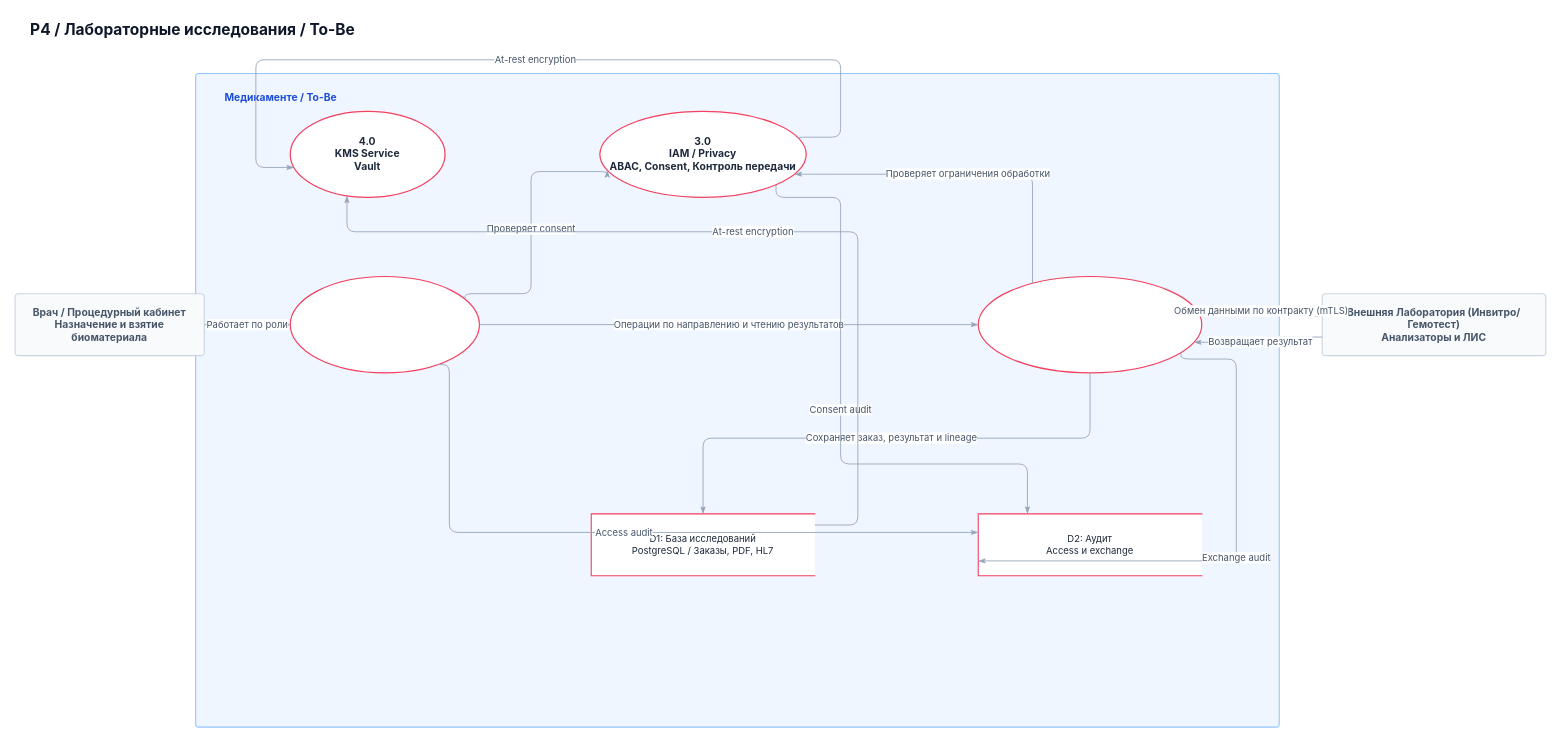
The diagram is 1562 pixels wide and 742 high, and some of its shapes have lost their labels. The shapes that lost their labels are listed below. From the top down, each one's centre as x and y in pixels, then its label:
At [384,324]: "1.0 Медицинские АРМ / API Gateway Kong / Аутентификация, Rate limit".
At [1089,324]: "2.0 Laboratory Service Java / Заказы, штрихкоды, HL7 FHIR".
